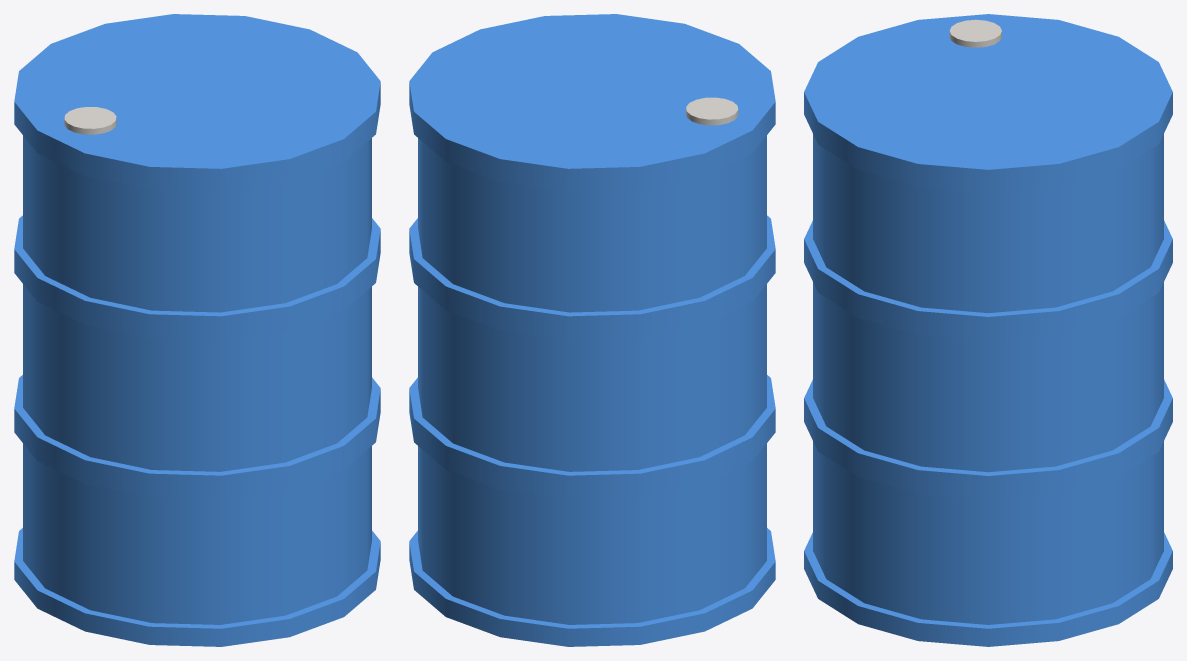
The model's file is 03 Oil barrel.FBX.
3 renders of one model, left to right at view 1: azimuth 30°, elevation 25°; view 2: azimuth 150°, elevation 25°; view 3: azimuth 270°, elevation 25°, orthographic.
Parts seen in each view (by area): view 1: Cylinder094; view 2: Cylinder094; view 3: Cylinder094.
Part boxes in pixels (x1=…): Cylinder094: x1=14, y1=14, x2=380, y2=646; Cylinder094: x1=409, y1=14, x2=775, y2=646; Cylinder094: x1=804, y1=14, x2=1172, y2=646.
Size of the model in its own units: 420 by 607 by 420.
